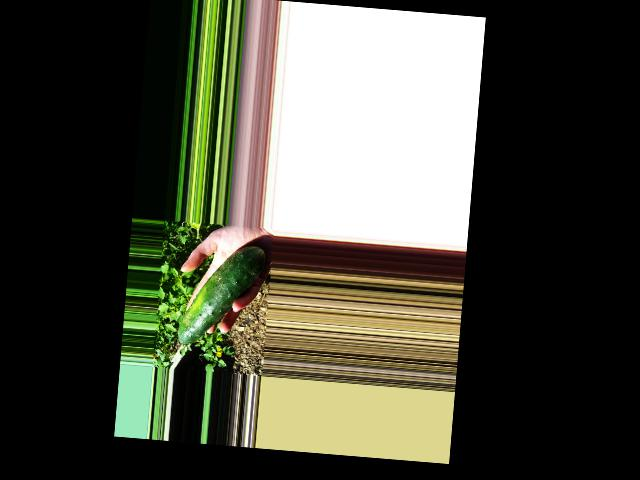cucumber: (177, 241, 265, 351)
